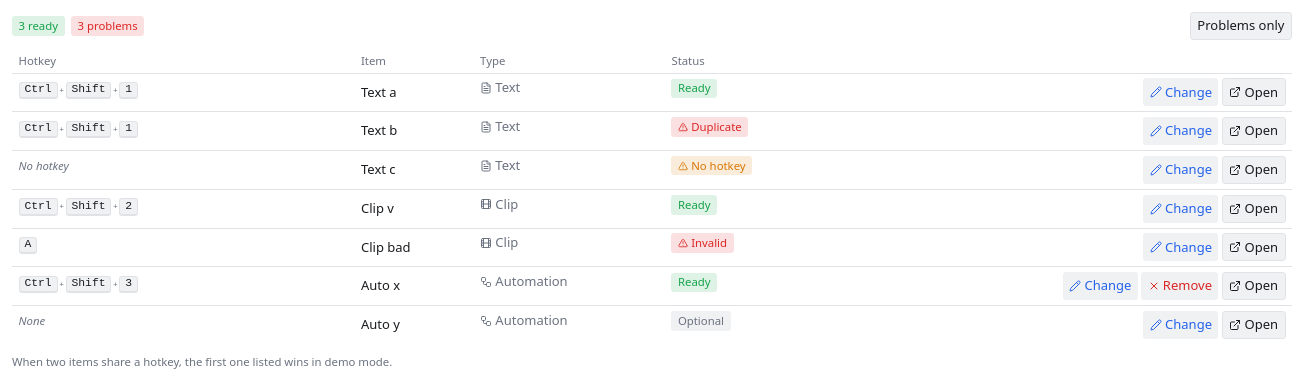
Test: HotkeysTable › filters to problems only
The width and height of the screenshot is (1304, 386).
Click the button with test id "hotkeys-problems-only": point(1241, 26) [1190,12,1292,40]
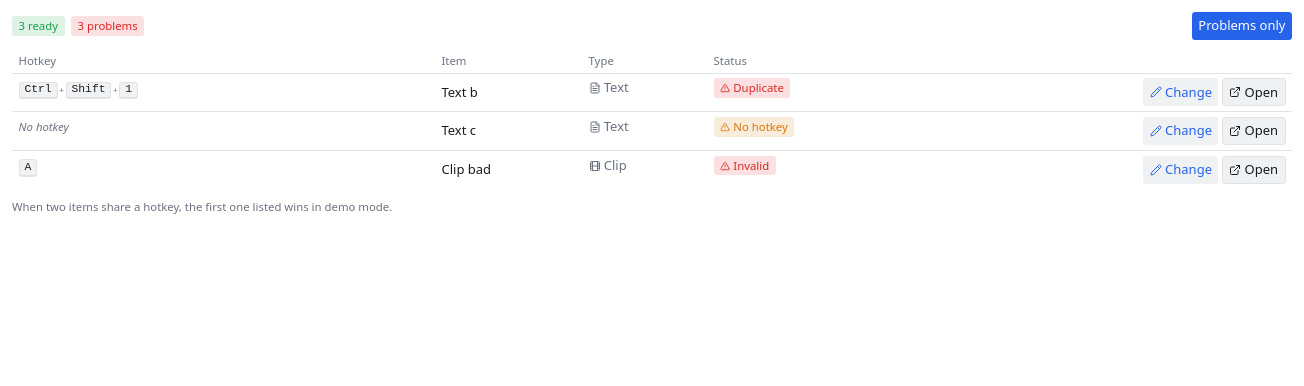
Expected: the row with test id "hotkey-row-b" is shown, [12,73,1292,112]
Now the row with test id "hotkey-row-a" is gone
Now the row with test id "hotkey-row-y" is gone
